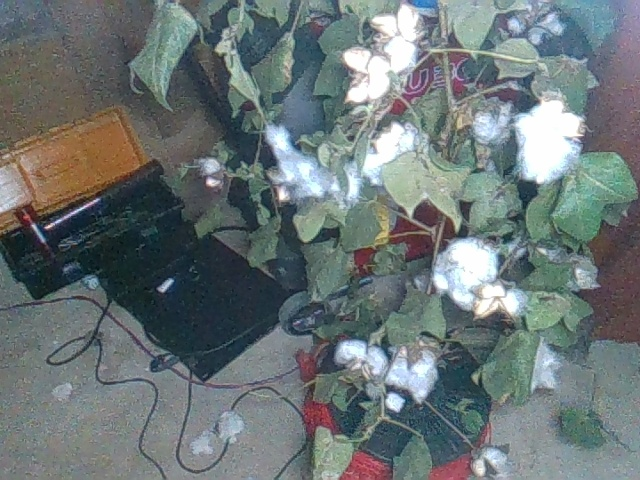cotton: (429, 234, 527, 322), (333, 336, 443, 413), (261, 119, 338, 207), (515, 96, 589, 185), (360, 120, 426, 190), (368, 1, 428, 74), (334, 47, 394, 106), (518, 334, 559, 402), (197, 157, 228, 187)
